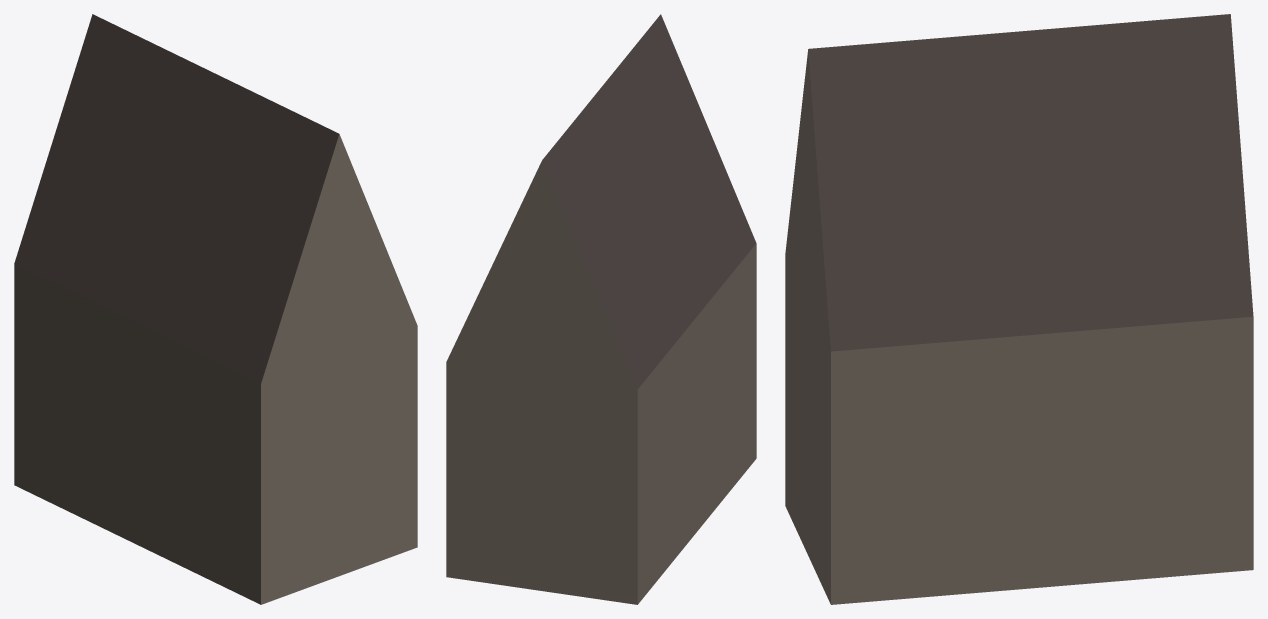
3 views of the same model, side by side, from view 1: azimuth 30°, elevation 25°; view 2: azimuth 150°, elevation 25°; view 3: azimuth 270°, elevation 25° (orthographic). The views are drawn at different scales.
Parts seen in each view (by area): view 1: HP-w428179916; view 2: HP-w428179916; view 3: HP-w428179916.
Boxes of the visible parts, left/top/right/bottom form: HP-w428179916: left=14, top=14, right=417, bottom=604; HP-w428179916: left=446, top=14, right=756, bottom=604; HP-w428179916: left=785, top=14, right=1253, bottom=604.
Size of the model in its own units: 3.39 by 6 by 5.02.
